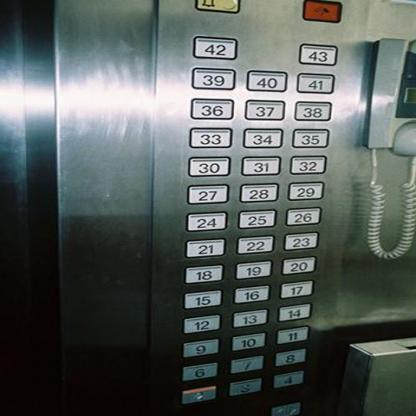10: (229, 332, 264, 351)
11: (274, 324, 308, 344)
12: (180, 313, 220, 334)
13: (228, 308, 269, 328)
14: (275, 302, 311, 322)
15: (181, 289, 222, 309)
16: (230, 284, 270, 304)
17: (276, 279, 312, 299)
18: (181, 264, 222, 284)
19: (232, 259, 272, 280)
2: (180, 385, 215, 403)
20: (279, 255, 316, 275)
21: (183, 236, 225, 258)
22: (234, 234, 274, 254)
23: (280, 230, 320, 251)
24: (184, 210, 226, 233)
25: (235, 208, 276, 229)
26: (282, 206, 322, 226)
27: (185, 183, 228, 205)
28: (237, 182, 279, 204)
29: (285, 180, 323, 201)
3: (227, 377, 262, 395)
30: (186, 155, 230, 177)
31: (239, 154, 281, 176)
32: (286, 154, 327, 175)
33: (187, 126, 232, 149)
34: (240, 126, 283, 148)
35: (290, 127, 328, 149)
36: (187, 96, 234, 121)
37: (243, 98, 285, 121)
38: (292, 100, 331, 122)
39: (188, 66, 235, 91)
4: (270, 370, 304, 388)
40: (242, 69, 288, 93)
41: (294, 71, 334, 94)
42: (190, 33, 238, 61)
43: (294, 41, 339, 66)
6: (179, 362, 217, 380)
7: (228, 355, 263, 373)
8: (271, 348, 307, 366)
9: (180, 337, 220, 358)
call: (297, 0, 344, 24)
open: (270, 402, 300, 416)
